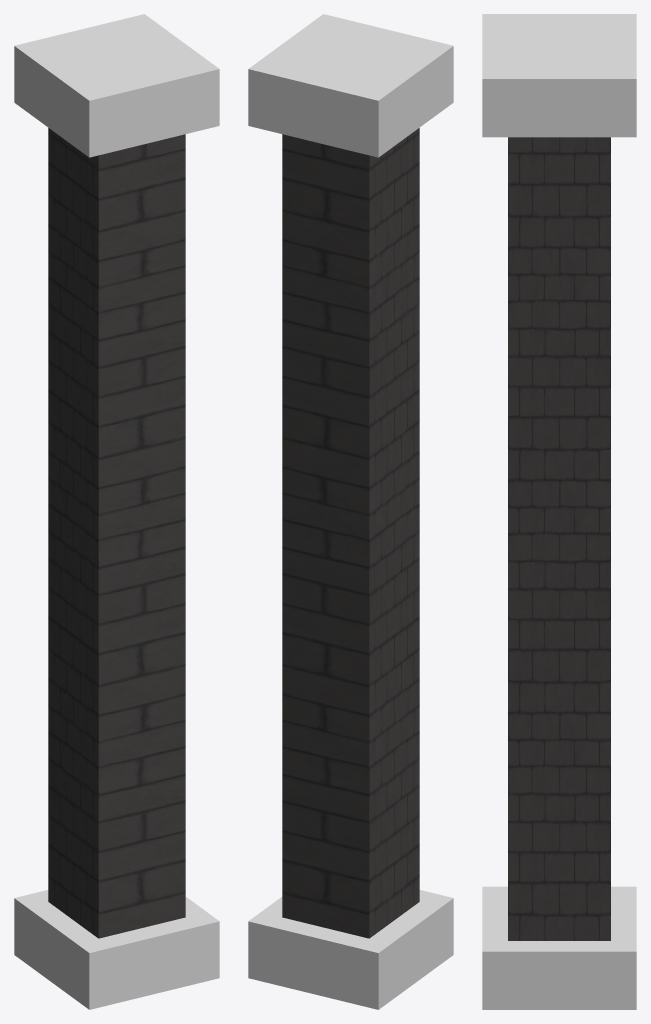
File: Dungeon_Pillar.fbx
The picture shows the model from 3 angles, left to right: view 1: azimuth 30°, elevation 25°; view 2: azimuth 150°, elevation 25°; view 3: azimuth 270°, elevation 25°; orthographic projection. The views are drawn at different scales.
Visible parts, largest first — view 1: Cube.001; view 2: Cube.001; view 3: Cube.001.
Part boxes in pixels (x1,y1,x2,y2): Cube.001: (14, 14, 219, 1009); Cube.001: (248, 14, 453, 1009); Cube.001: (482, 14, 636, 1009).
Size of the model in its own units: 120 by 800 by 120.
